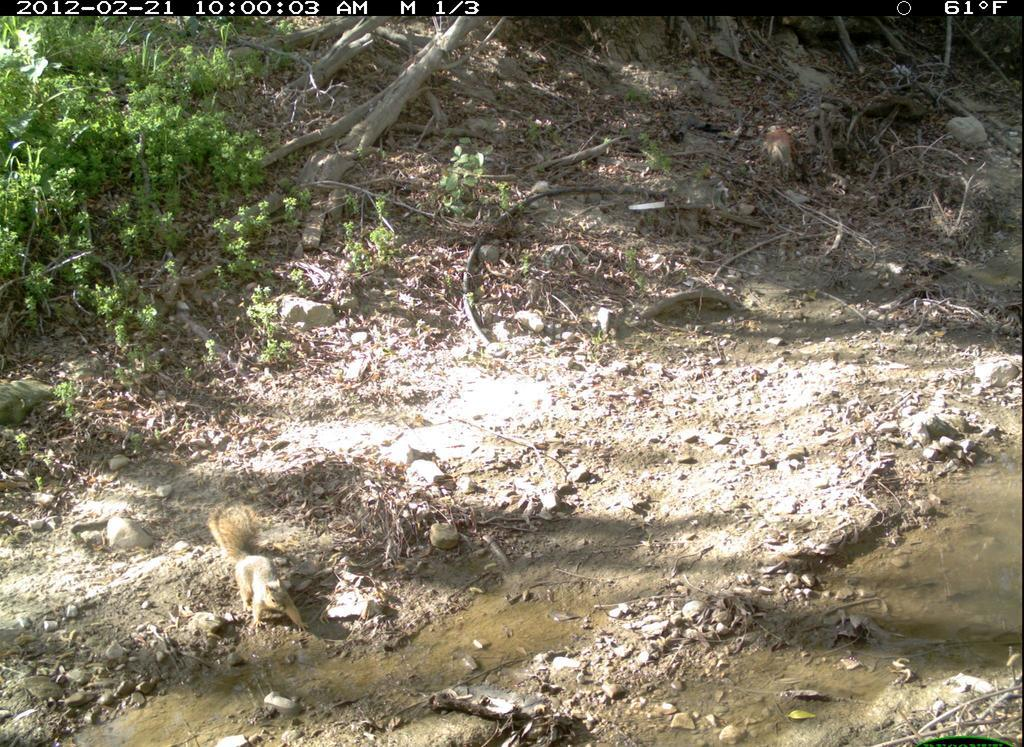squirrel: (201, 496, 315, 643)
